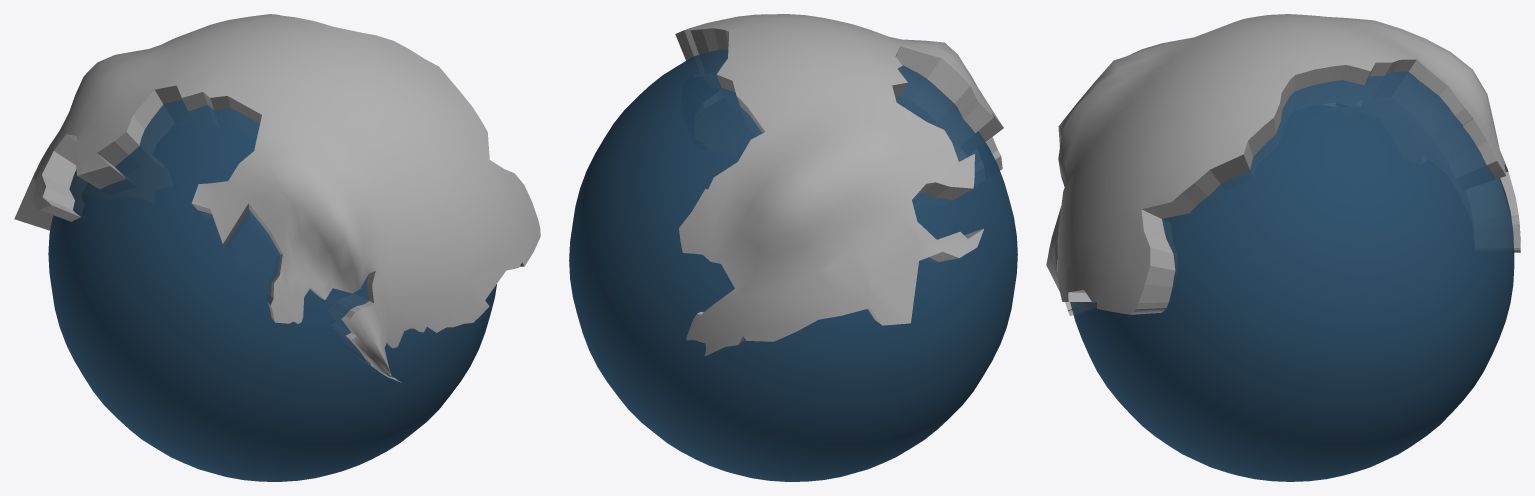
File: Land.fbx
3 renders of one model, left to right at view 1: azimuth 30°, elevation 25°; view 2: azimuth 150°, elevation 25°; view 3: azimuth 270°, elevation 25°, orthographic.
Visible parts, largest first — view 1: Land, Ocean; view 2: Ocean, Land; view 3: Ocean, Land.
Part boxes in pixels (x1,y1,x2,y2): Land: (14,14,540,382); Ocean: (48,99,496,481); Ocean: (569,49,1017,481); Land: (675,14,1003,355); Ocean: (1070,71,1514,481); Land: (1046,14,1520,315).
Size of the model in its own units: 22.66 by 22.69 by 23.08.
